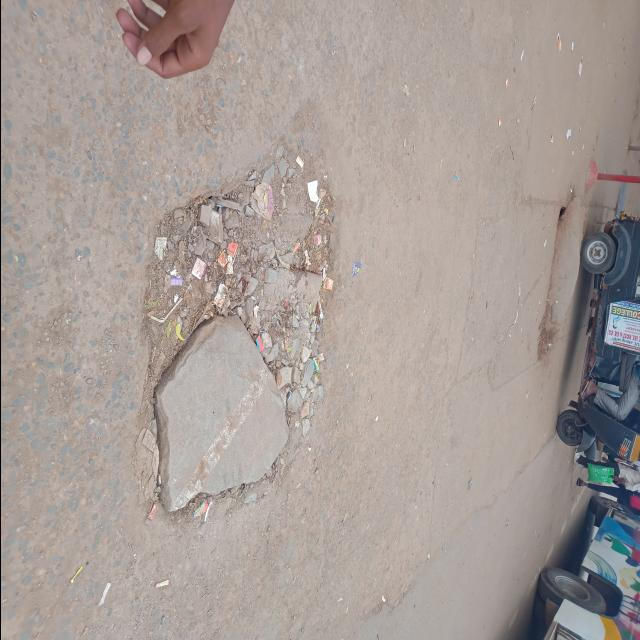potholes: (138, 152, 340, 528)
